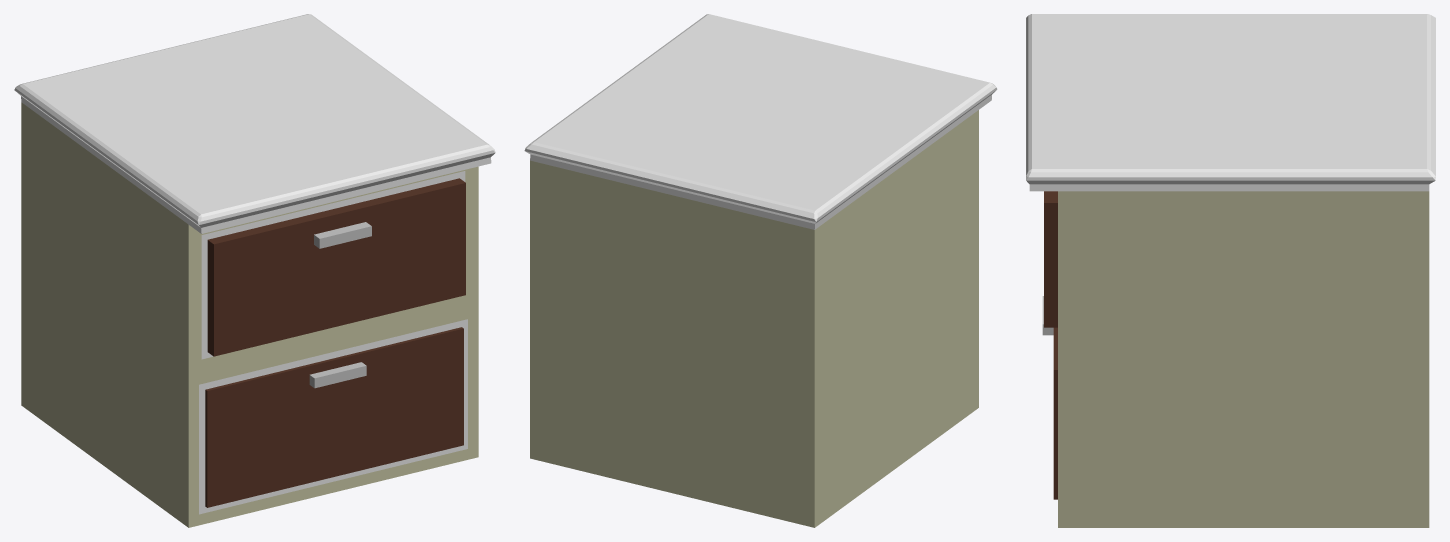
The model's file is CounterWithoutSink_NewProp.fbx.
3 views of the same model, side by side, from view 1: azimuth 30°, elevation 25°; view 2: azimuth 150°, elevation 25°; view 3: azimuth 270°, elevation 25° (orthographic). The views are drawn at different scales.
Parts seen in each view (by area): view 1: Cube; view 2: Cube; view 3: Cube.
Boxes of the visible parts, bbox=[...] form: Cube: bbox=[14, 14, 495, 527]; Cube: bbox=[524, 14, 997, 527]; Cube: bbox=[1026, 14, 1435, 527].
Bounding box in the file's own units: 205 × 212 × 221.
